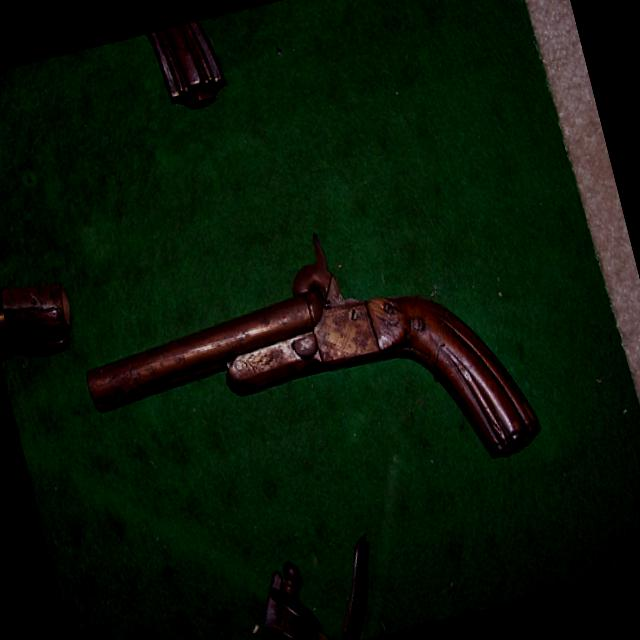handgun: (58, 188, 542, 550)
